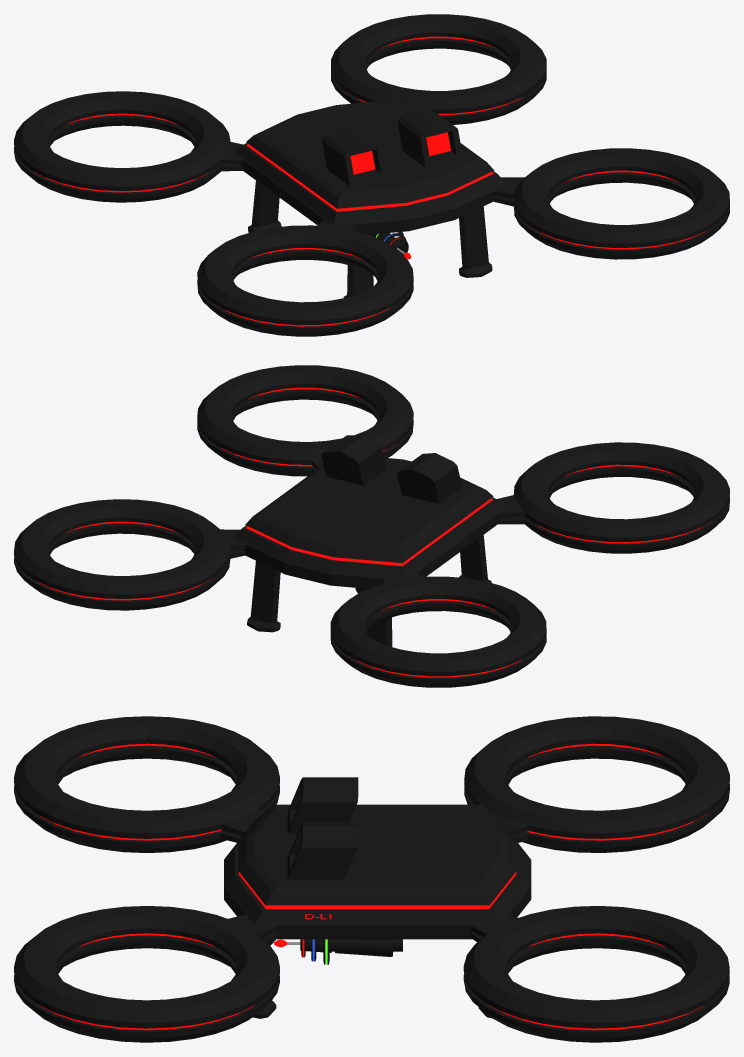
File: drone_laser_1.glb
The picture shows the model from 3 angles, top to bottom: view 1: azimuth 30°, elevation 25°; view 2: azimuth 150°, elevation 25°; view 3: azimuth 270°, elevation 25°; orthographic projection. The views are drawn at different scales.
Visible parts, largest first — view 1: Drone_Laser_1, Cylinder.374, Cylinder.377, Cylinder.371, Cylinder.380, Cube.127, Cube.126; view 2: Drone_Laser_1, Cylinder.371, Cylinder.380, Cylinder.377, Cylinder.374, Cube.127; view 3: Drone_Laser_1, Cylinder.374, Cylinder.380, Cylinder.371, Cylinder.377, Cylinder.384, Cube.127.
Part boxes in pixels (x1=…): Drone_Laser_1: x1=234, y1=99, x2=506, y2=297; Cylinder.374: x1=492, y1=148, x2=729, y2=259; Cylinder.377: x1=14, y1=91, x2=243, y2=202; Cylinder.371: x1=197, y1=220, x2=413, y2=336; Cylinder.380: x1=331, y1=14, x2=546, y2=124; Cube.127: x1=246, y1=144, x2=493, y2=211; Cube.126: x1=350, y1=132, x2=450, y2=174; Drone_Laser_1: x1=233, y1=435, x2=505, y2=646; Cylinder.371: x1=497, y1=442, x2=729, y2=553; Cylinder.380: x1=14, y1=499, x2=245, y2=610; Cylinder.377: x1=330, y1=573, x2=546, y2=687; Cylinder.374: x1=197, y1=365, x2=413, y2=476; Cube.127: x1=246, y1=498, x2=492, y2=566; Drone_Laser_1: x1=224, y1=777, x2=531, y2=1018; Cylinder.374: x1=14, y1=906, x2=279, y2=1042; Cylinder.380: x1=463, y1=906, x2=729, y2=1042; Cylinder.371: x1=14, y1=716, x2=279, y2=852; Cylinder.377: x1=464, y1=716, x2=729, y2=852; Cylinder.384: x1=300, y1=939, x2=402, y2=956; Cube.127: x1=238, y1=871, x2=516, y2=909.
Size of the model in its own units: 3.56 by 0.9424 by 3.56.
